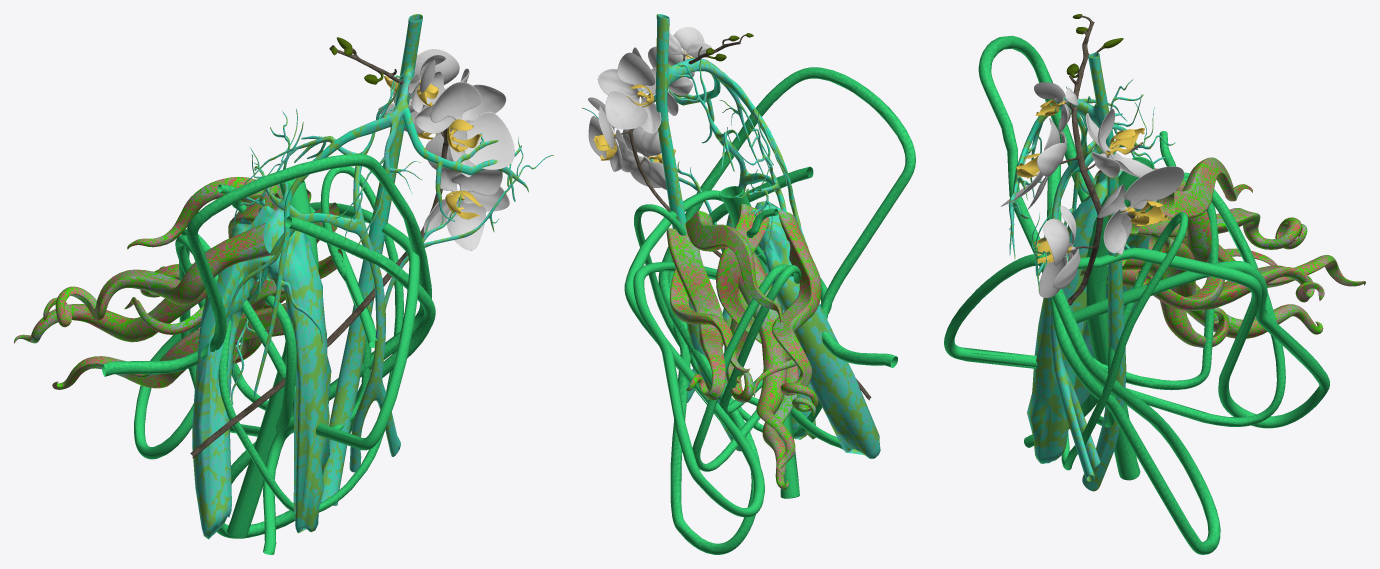
The model's file is dmtreevines.glb.
3 views of the same model, side by side, from view 1: azimuth 30°, elevation 25°; view 2: azimuth 150°, elevation 25°; view 3: azimuth 270°, elevation 25° (orthographic). The views are drawn at different scales.
Parts seen in each view (by area): view 1: human_liver_1128_vein.001, bramble_cluster_loops, plant.008, plant_orchid_planter, jump_rope_246.027, jump_rope_246.026, jump_rope_246.021, jump_rope_246.030, human_liver_1128_aorta.005; view 2: plant.008, jump_rope_246.027, plant_orchid_planter, human_liver_1128_vein.001, bramble_cluster_loops, jump_rope_246.026, jump_rope_246.030, jump_rope_246.021, human_liver_1128_aorta.005; view 3: plant.008, plant_orchid_planter, jump_rope_246.027, jump_rope_246.026, human_liver_1128_vein.001, bramble_cluster_loops, jump_rope_246.030, jump_rope_246.021, human_liver_1128_aorta.005.
Boxes of the visible parts, <box> form: human_liver_1128_vein.001: <box>193,14,553,505</box>; bramble_cluster_loops: <box>192,206,331,539</box>; plant.008: <box>14,176,343,389</box>; plant_orchid_planter: <box>190,37,514,458</box>; jump_rope_246.027: <box>101,153,435,538</box>; jump_rope_246.026: <box>134,202,419,554</box>; jump_rope_246.021: <box>217,166,403,512</box>; jump_rope_246.030: <box>175,229,296,436</box>; human_liver_1128_aorta.005: <box>227,179,318,538</box>; plant.008: <box>666,204,821,489</box>; jump_rope_246.027: <box>658,67,915,554</box>; plant_orchid_planter: <box>588,27,871,400</box>; human_liver_1128_vein.001: <box>582,14,808,451</box>; bramble_cluster_loops: <box>755,201,880,458</box>; jump_rope_246.026: <box>624,190,843,517</box>; jump_rope_246.030: <box>692,264,801,471</box>; jump_rope_246.021: <box>634,204,822,437</box>; human_liver_1128_aorta.005: <box>719,186,799,498</box>; plant.008: <box>1080,157,1365,347</box>; plant_orchid_planter: <box>1001,14,1184,305</box>; jump_rope_246.027: <box>978,35,1220,554</box>; jump_rope_246.026: <box>944,247,1329,447</box>; human_liver_1128_vein.001: <box>1008,52,1175,491</box>; bramble_cluster_loops: <box>1027,170,1150,463</box>; jump_rope_246.030: <box>1093,172,1285,426</box>; jump_rope_246.021: <box>1061,131,1188,470</box>; human_liver_1128_aorta.005: <box>1086,156,1154,480</box>.
Size of the model in its own units: 0.7286 by 0.9291 by 0.6492.
Materials: 4 (4 with a texture image).
